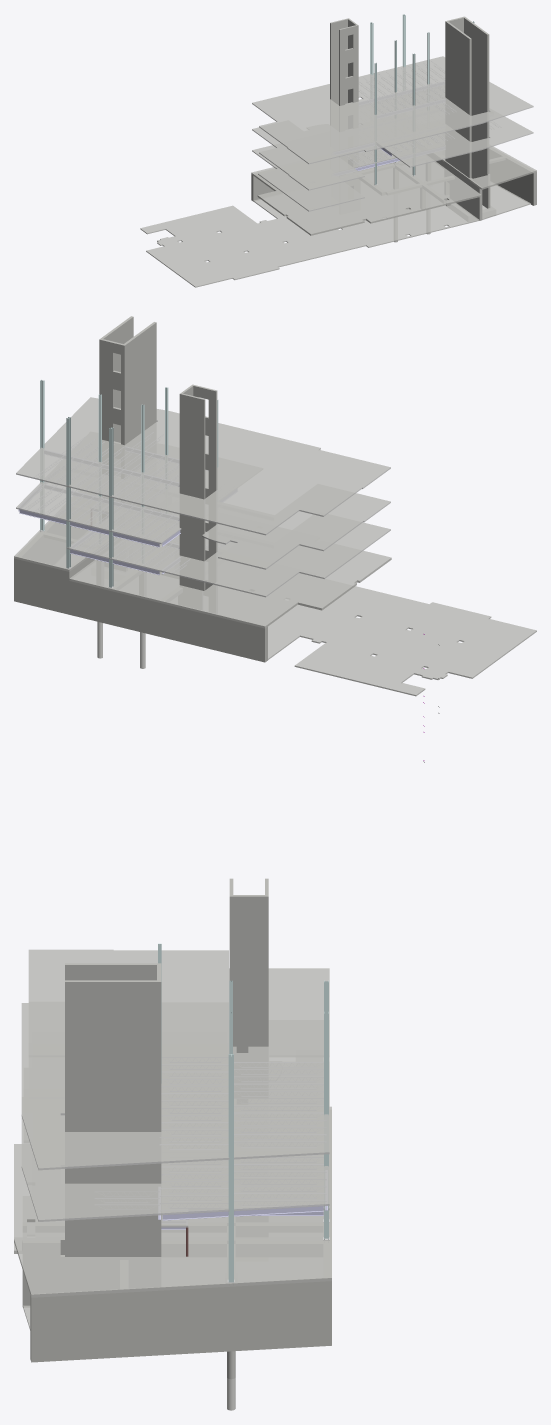
Rendered from ISSUE-002-context.glb.
The picture shows the model from 3 angles, top to bottom: view 1: azimuth 30°, elevation 25°; view 2: azimuth 150°, elevation 25°; view 3: azimuth 270°, elevation 25°; orthographic projection. The views are drawn at different scales.
Visible parts, largest first — view 1: 5379 (×2), 4738, 3844, 4036 (×2), 3162, 4006, 3161, 3860, 3045, 3043, 3197, 3059 (+3 smaller); view 2: 5379 (×2), 4738, 4036 (×2), 3844, 4006 (×2), 3928, 3043, 3162, 3207, 3860, 3160, 3045 (+3 smaller); view 3: 5379 (×2), 3161, 3197, 4036 (×2), 3860, 3844, 3044, 3162, 3295, 3160, 3286.
Boxes of the visible parts, box(x1,y1,x2,y2) form: 5379 (×2): box(252, 56, 533, 164); 4738: box(140, 185, 530, 287); 3844: box(251, 161, 481, 235); 4036 (×2): box(252, 116, 533, 190); 3162: box(445, 21, 471, 178); 4006: box(252, 145, 395, 210); 3161: box(464, 17, 489, 173); 3860: box(441, 146, 536, 189); 3045: box(339, 25, 356, 105); 3043: box(330, 18, 349, 105); 3197: box(497, 172, 536, 205); 3059: box(445, 161, 482, 220); 5379 (×2): box(16, 397, 390, 535); 4738: box(268, 586, 536, 696); 4036 (×2): box(16, 481, 390, 569); 3844: box(69, 550, 391, 628); 4006 (×2): box(66, 522, 390, 597); 3928: box(69, 581, 267, 662); 3043: box(179, 393, 205, 590); 3162: box(122, 322, 156, 445); 3207: box(14, 558, 72, 614); 3860: box(14, 521, 89, 571); 3160: box(99, 338, 123, 444); 3045: box(193, 385, 217, 560); 5379 (×2): box(21, 949, 329, 1170); 3161: box(65, 980, 156, 1256); 3197: box(30, 1281, 323, 1362); 4036 (×2): box(21, 1115, 329, 1221); 3860: box(14, 1237, 331, 1297); 3844: box(14, 1106, 331, 1253); 3044: box(229, 895, 264, 1052); 3162: box(65, 963, 161, 980); 3295: box(228, 1054, 233, 1282); 3160: box(157, 965, 161, 1256); 3286: box(324, 1012, 328, 1239).
Size of the model in its own units: 63.99 by 34.93 by 37.24.
